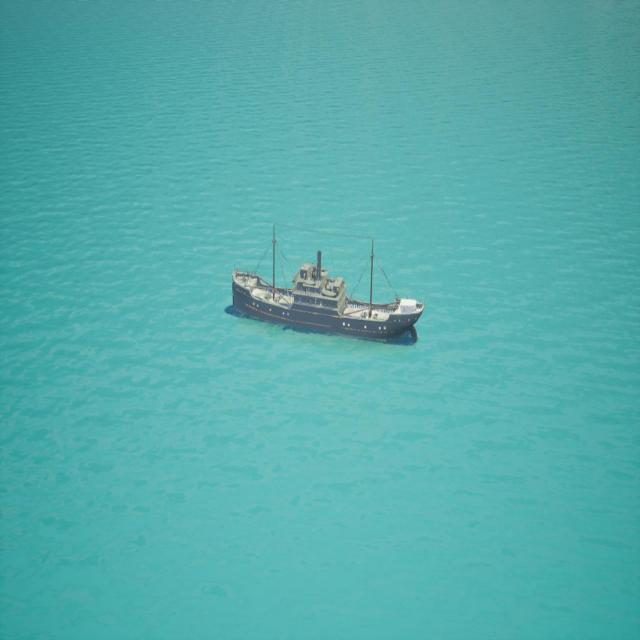fishing ship: (232, 228, 424, 344)
